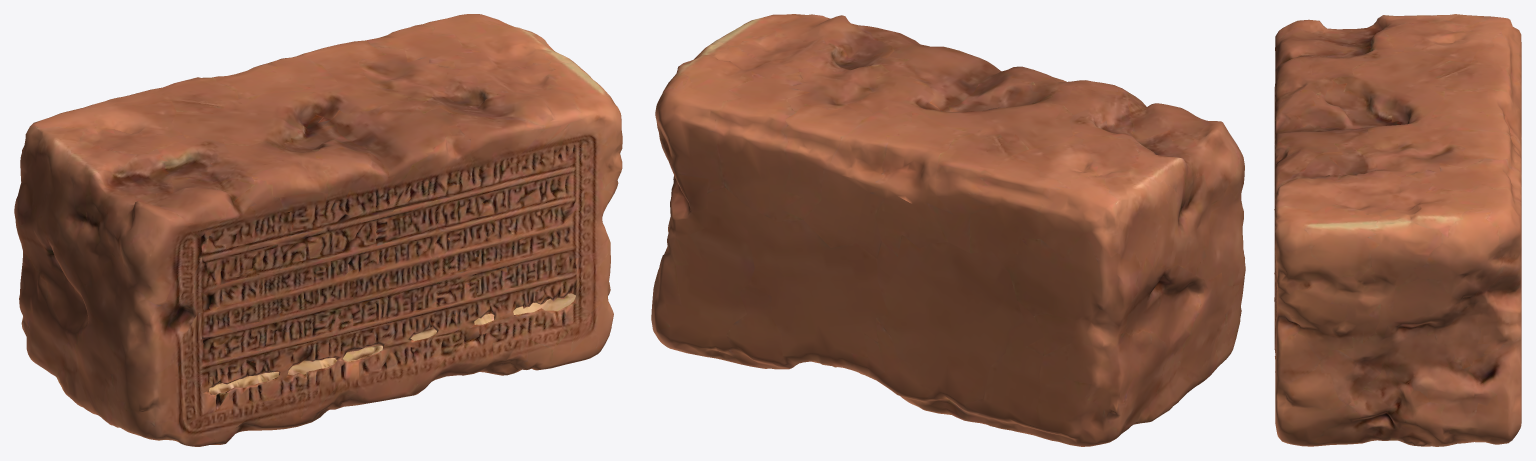
The model's file is babylon_tablet.glb.
3 renders of one model, left to right at view 1: azimuth 30°, elevation 25°; view 2: azimuth 150°, elevation 25°; view 3: azimuth 270°, elevation 25°, orthographic. The views are drawn at different scales.
Size of the model in its own units: 1.91 by 0.9598 by 0.8953.
1 material, 1 textured.
